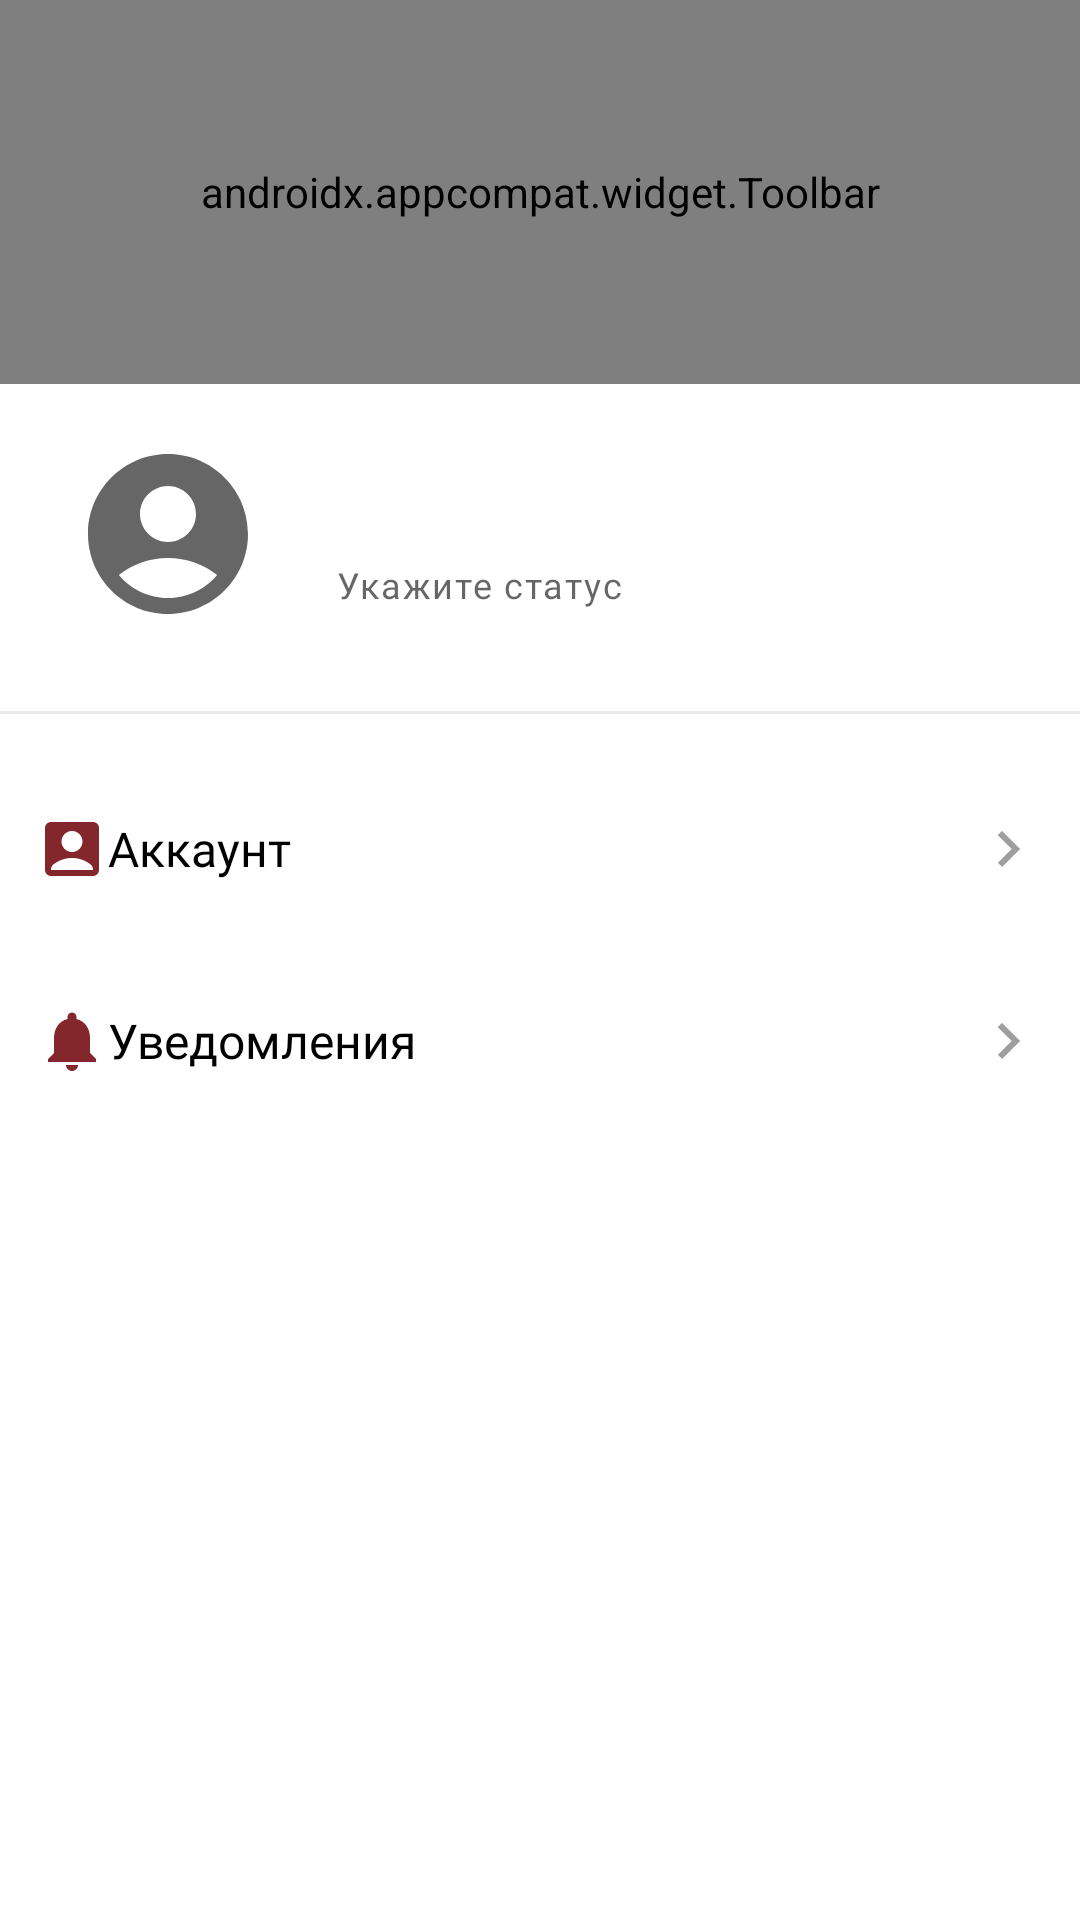

Icon bounding boxes for this 1080 x 1920 phone screenshot, format detection(x1, y1, x2, y2):
account circle: detection(88, 454, 248, 614)
